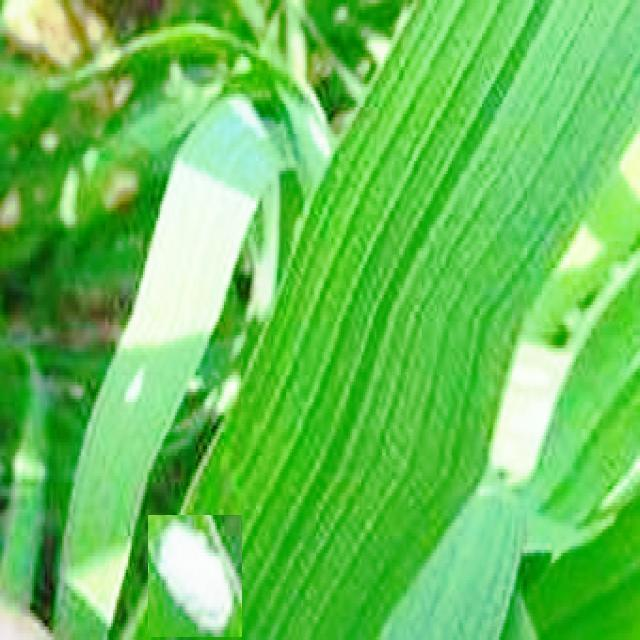whorl-maggot: (148, 515, 242, 637)
